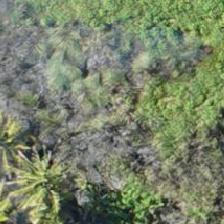coconut_tree: (0, 144, 87, 223)
